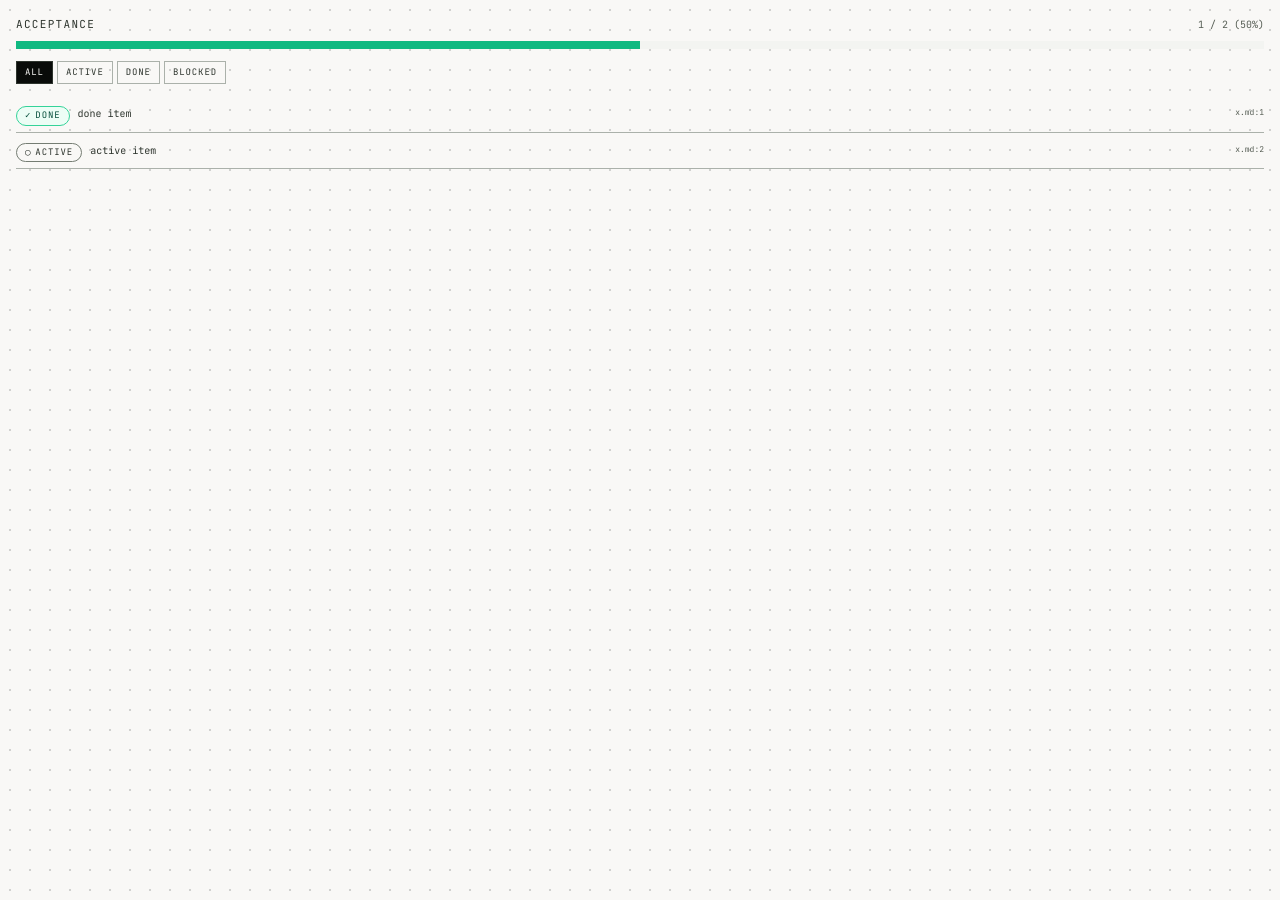
Test case: UI Enhancement Pack v0 — AcceptanceTab › filtering to Active narrows the visible rows
Click the button with test id "acceptance-filter-active".
click(85, 72)  # box [57,60,113,84]
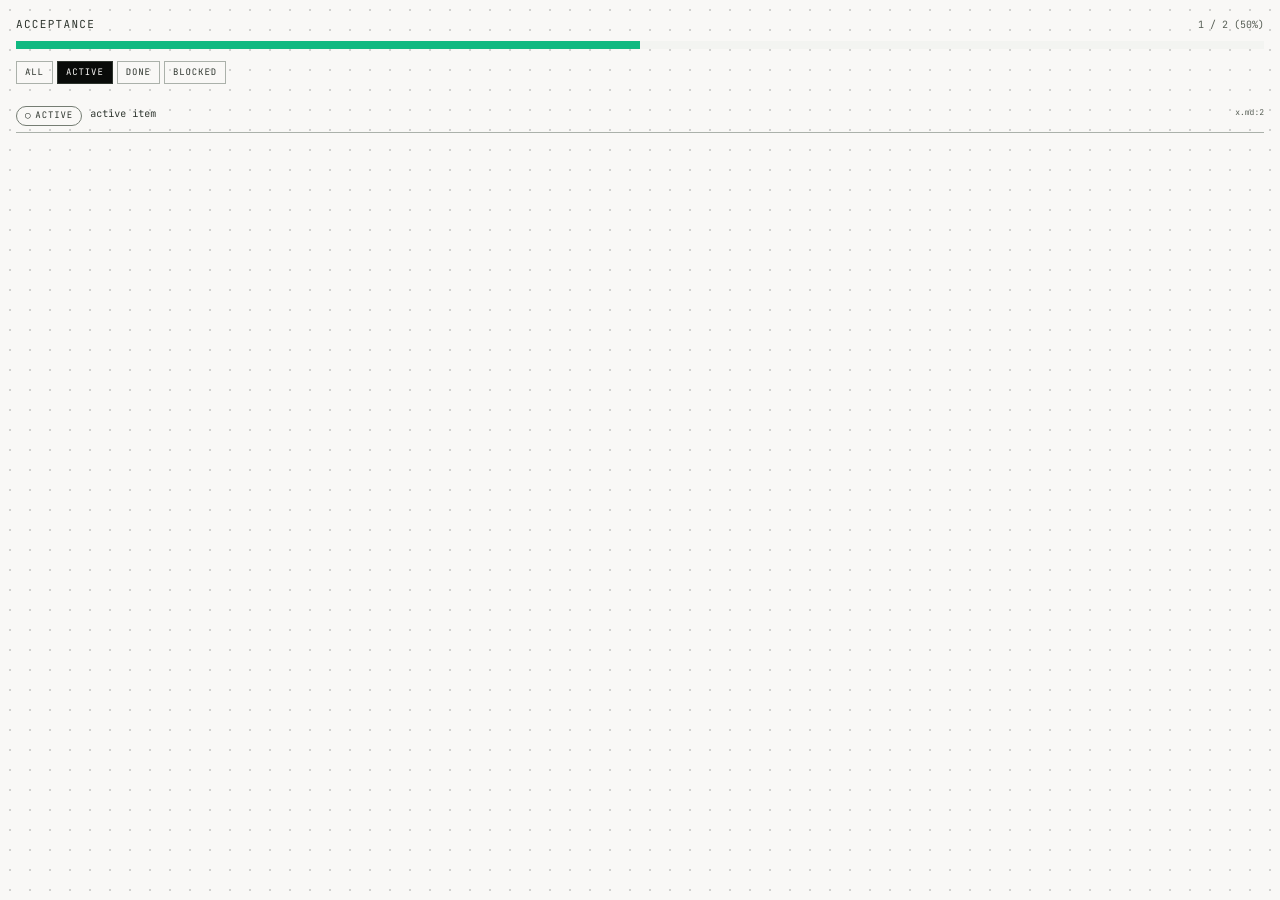
Expected: the text "active item" is shown, [90,107,156,120]
Result: the button "done item" is gone
